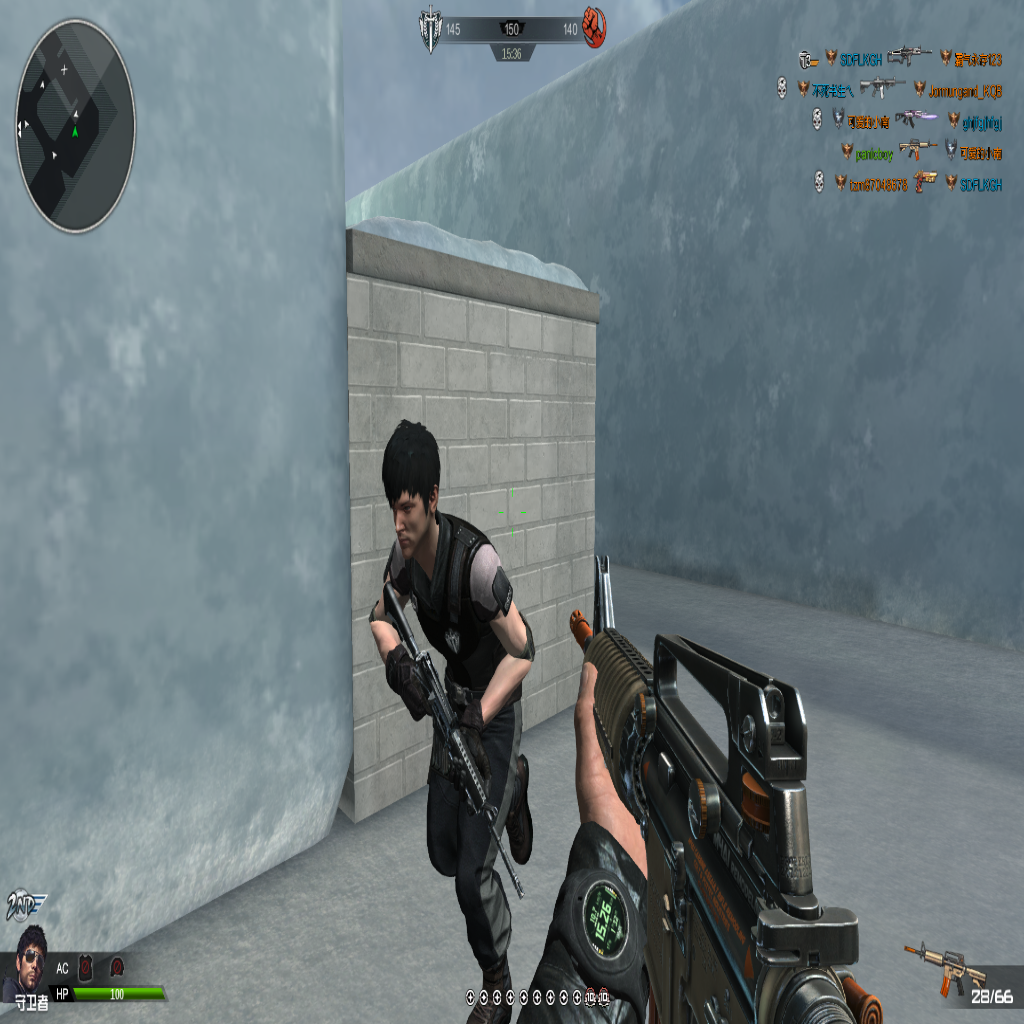ct: (367, 426, 538, 964)
